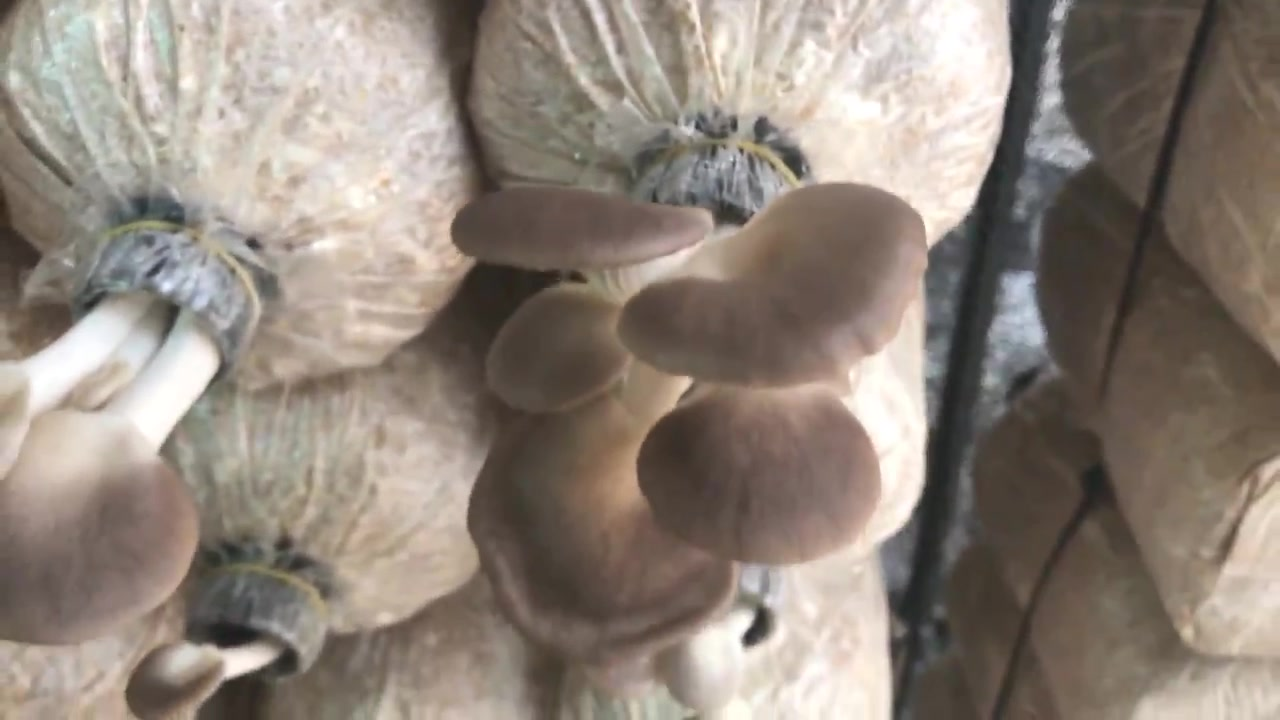nam: (452, 148, 923, 652), (1, 212, 260, 642), (127, 555, 324, 720), (660, 563, 788, 709)
